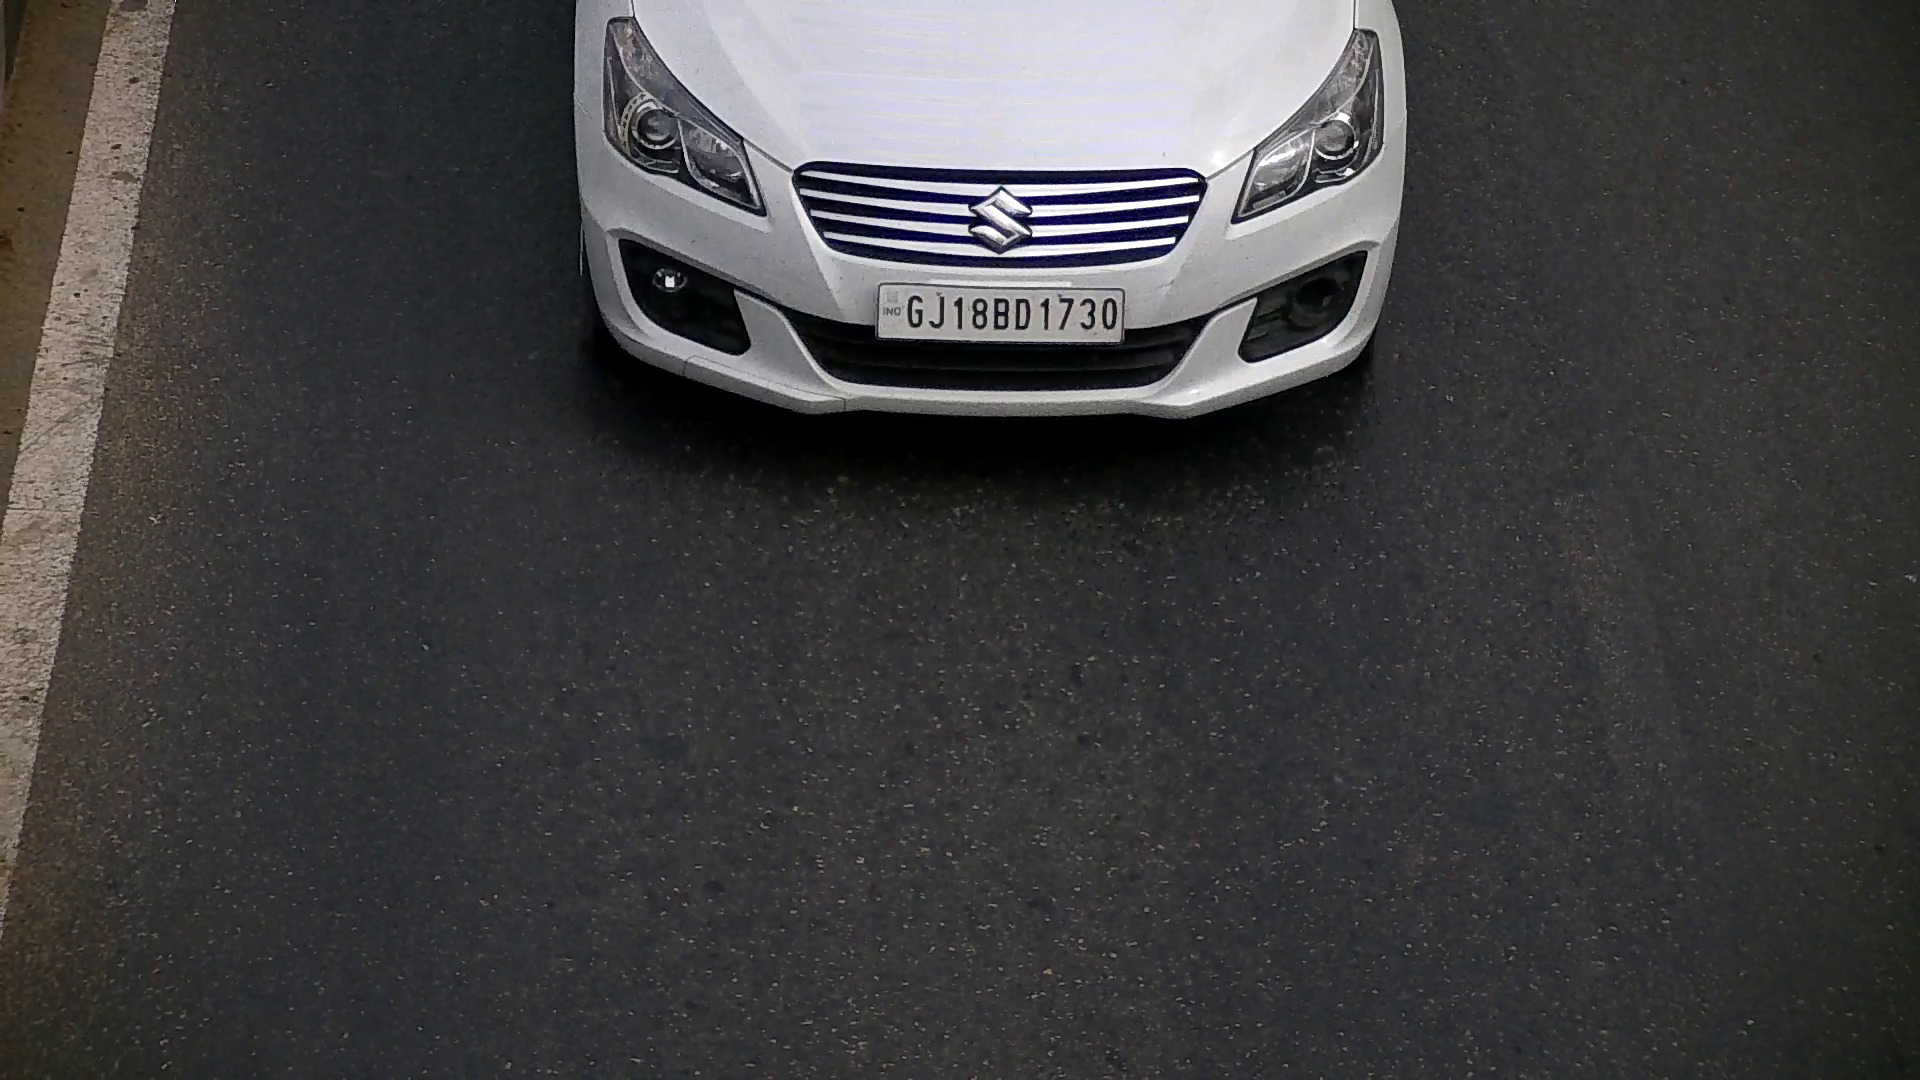numberplate: (870, 280, 1135, 350)
